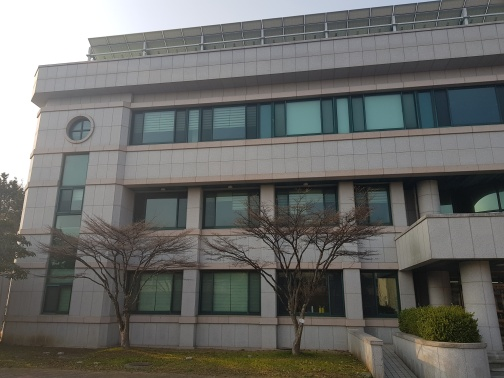Information Telecommunication Center: (9, 30, 501, 348), (27, 66, 123, 344)
